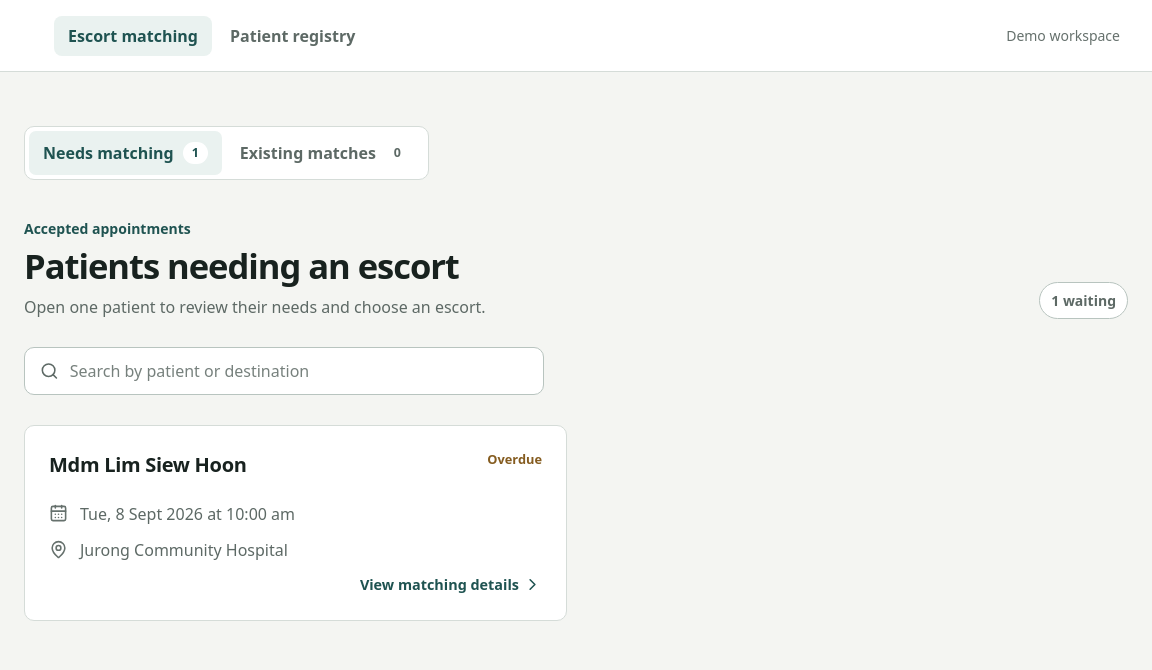
Scenario: MatchingWorkspace › saves corrected matching details and refreshes suggestions
Click the button "Mdm Lim Siew Hoon" at (296, 523), box [24,425,567,621]
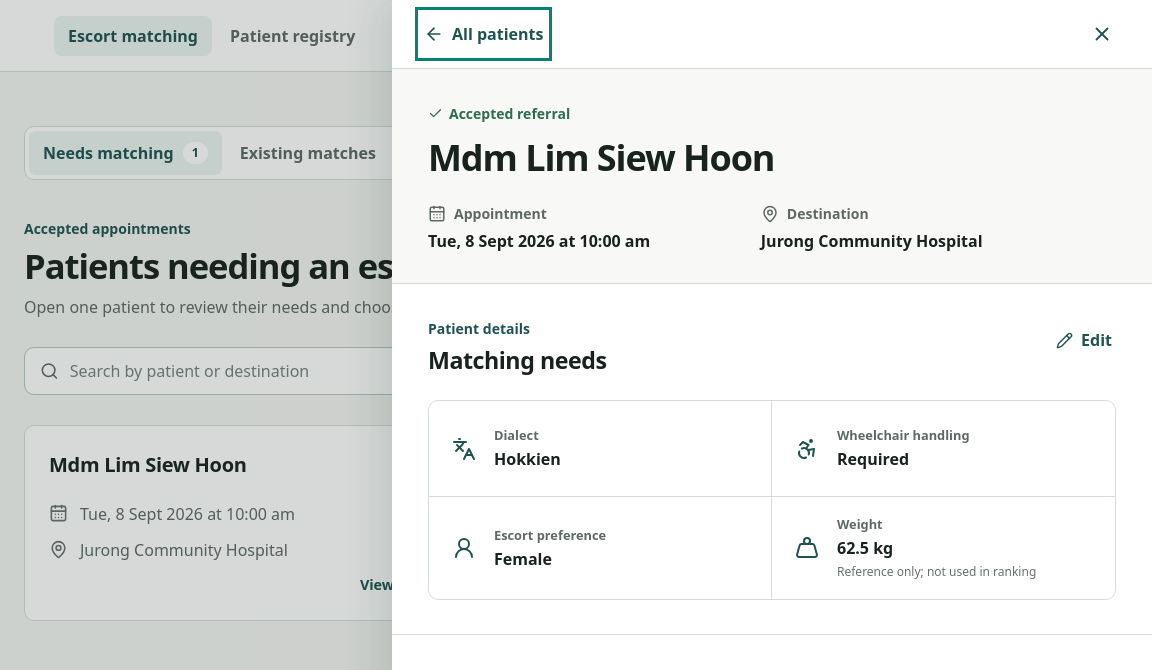
Click the button "Edit" at (1084, 340), box [1052,318,1116,362]
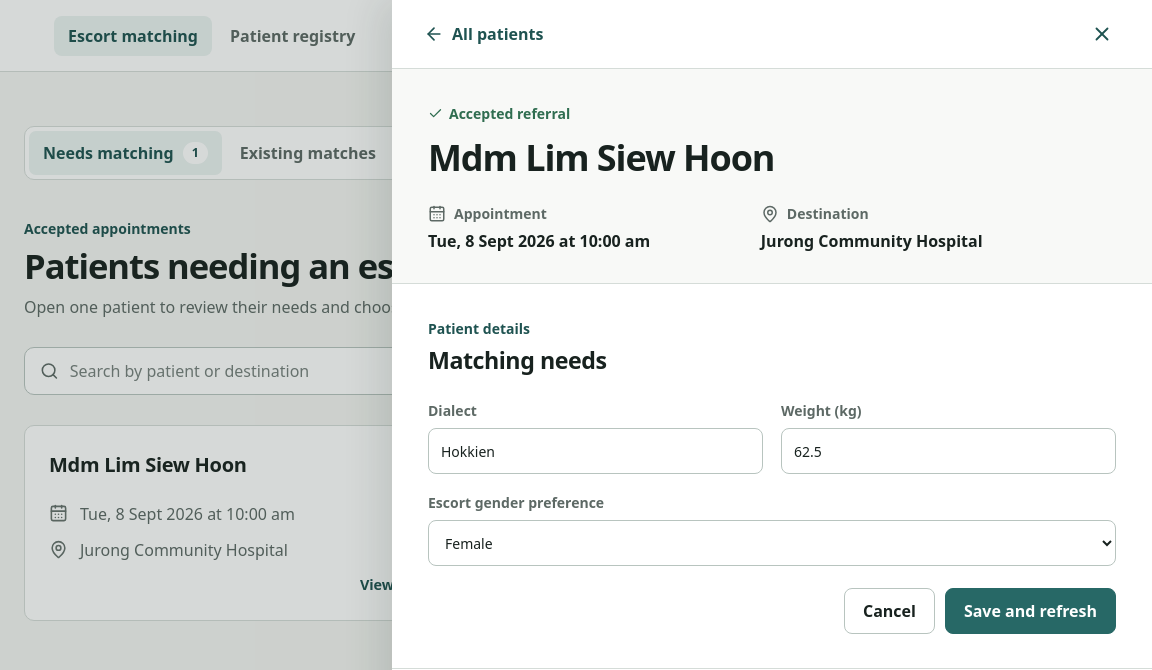
Replace the text in the field labelled "Dialect" with "Cantonese" at (596, 451), box [428,428,763,474]
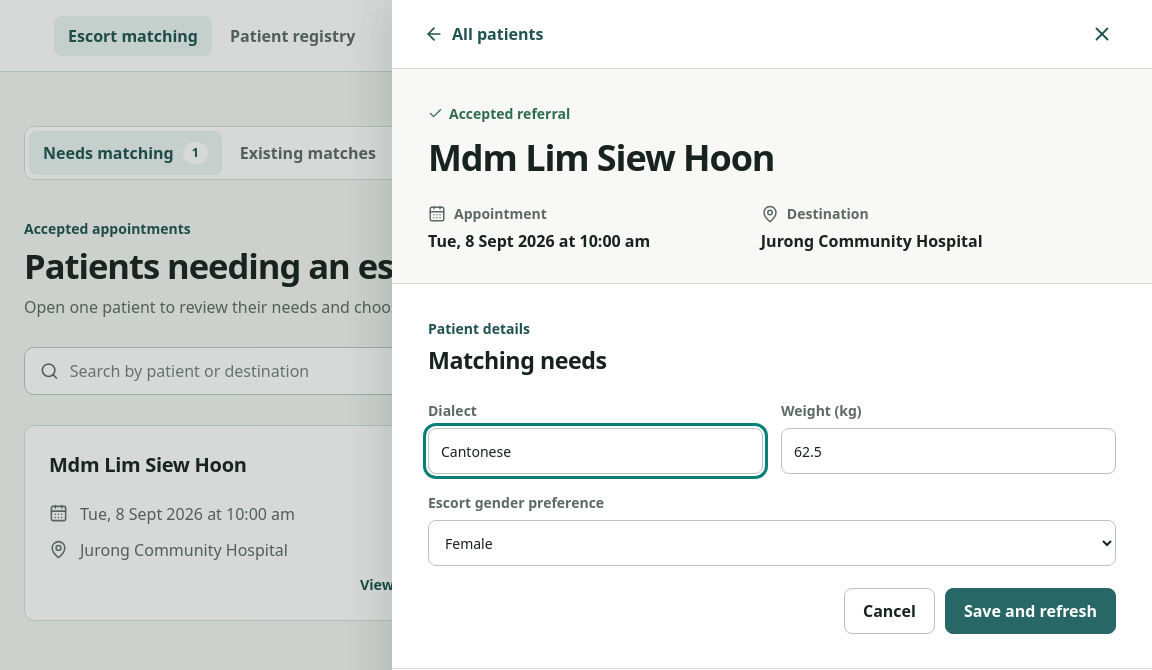
Click the button "Save and refresh" at (1030, 611), box [945,588,1116,634]
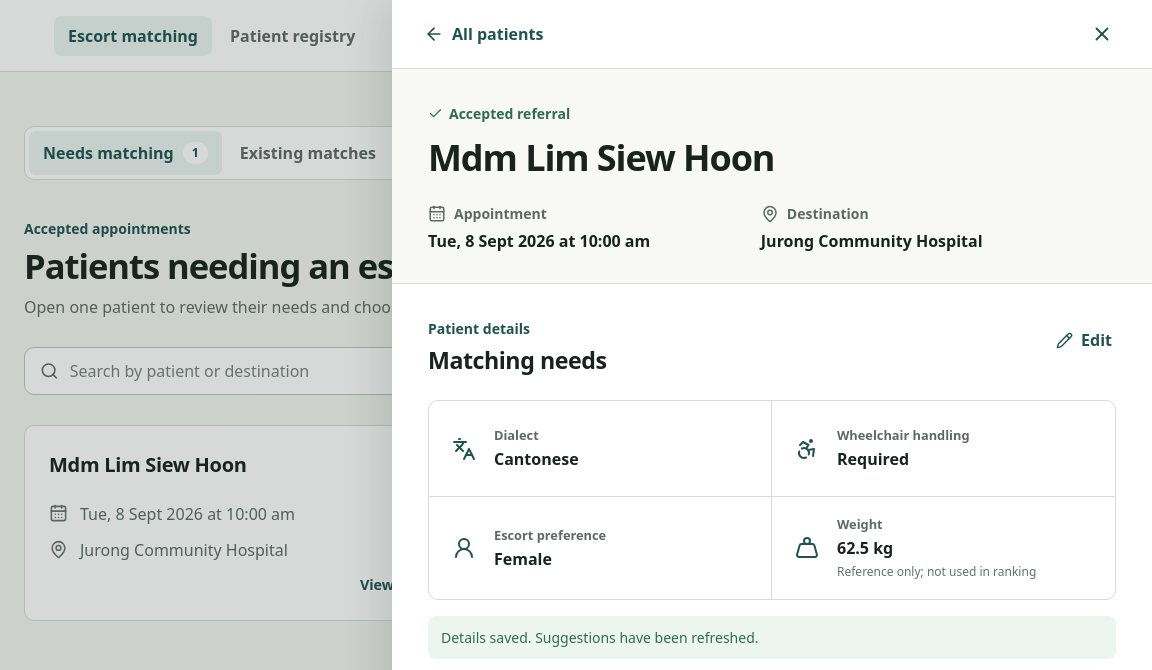
Check: the text "Details saved. Suggestions have been refreshed." is shown, box [428,616,1116,660]
